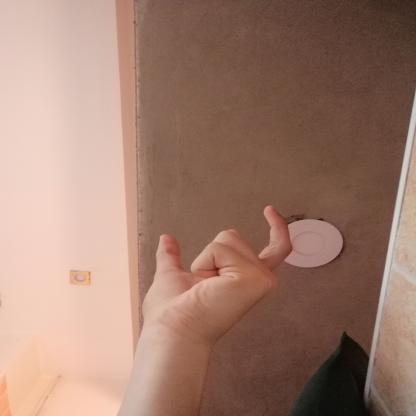NOON: (129, 196, 309, 356)
